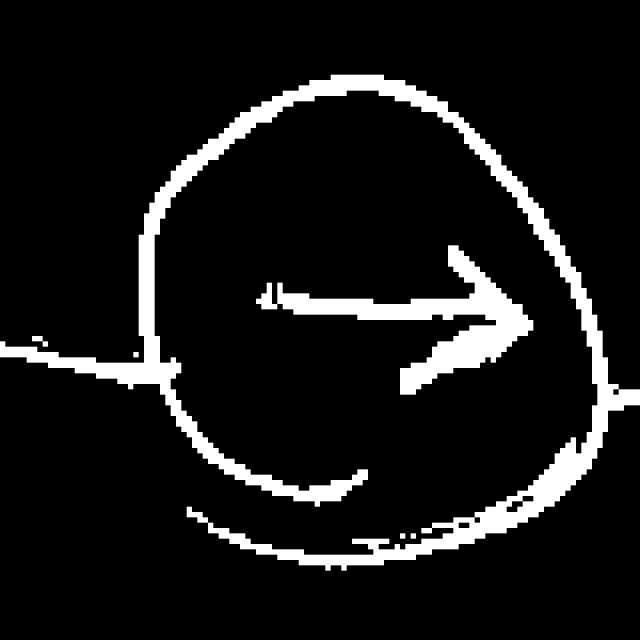current_source: (127, 65, 628, 603)
